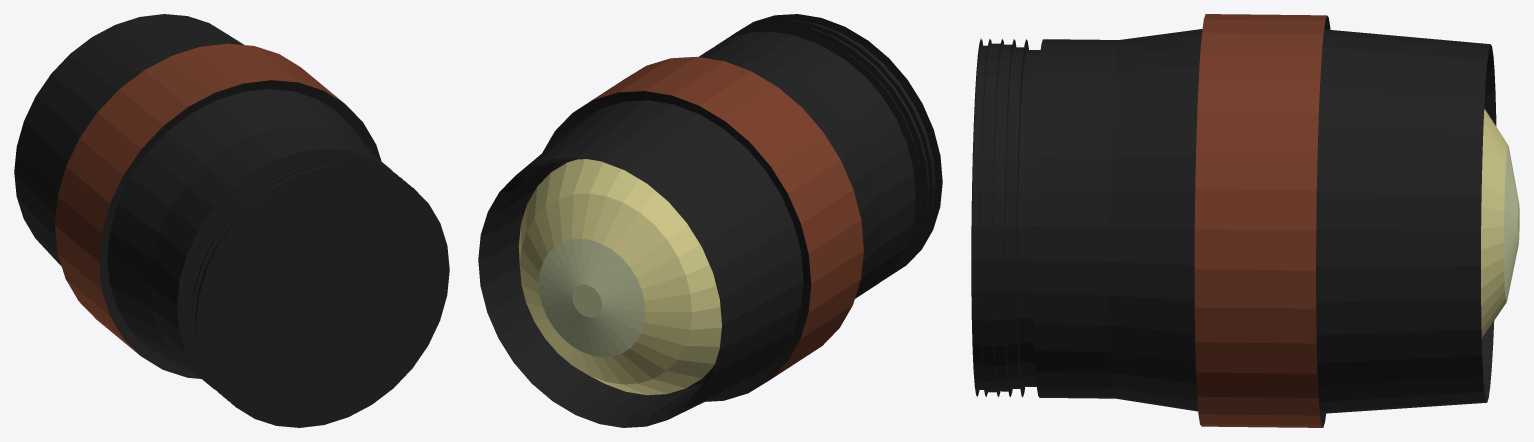
The model's file is CupaTest.fbx.
The picture shows the model from 3 angles, left to right: view 1: azimuth 30°, elevation 25°; view 2: azimuth 150°, elevation 25°; view 3: azimuth 270°, elevation 25°; orthographic projection. The views are drawn at different scales.
Parts seen in each view (by area): view 1: Cylinder; view 2: Cylinder; view 3: Cylinder.
Boxes of the visible parts, left/top/right/bottom form: Cylinder: left=14, top=14, right=449, bottom=427; Cylinder: left=478, top=14, right=942, bottom=427; Cylinder: left=971, top=14, right=1519, bottom=427.
Size of the model in its own units: 146 by 144 by 191.
